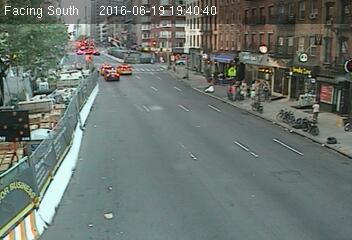neg: (333, 90, 349, 111), (223, 85, 236, 102), (235, 85, 246, 100)
pos: (307, 99, 324, 122), (249, 79, 259, 92), (250, 90, 257, 99)
